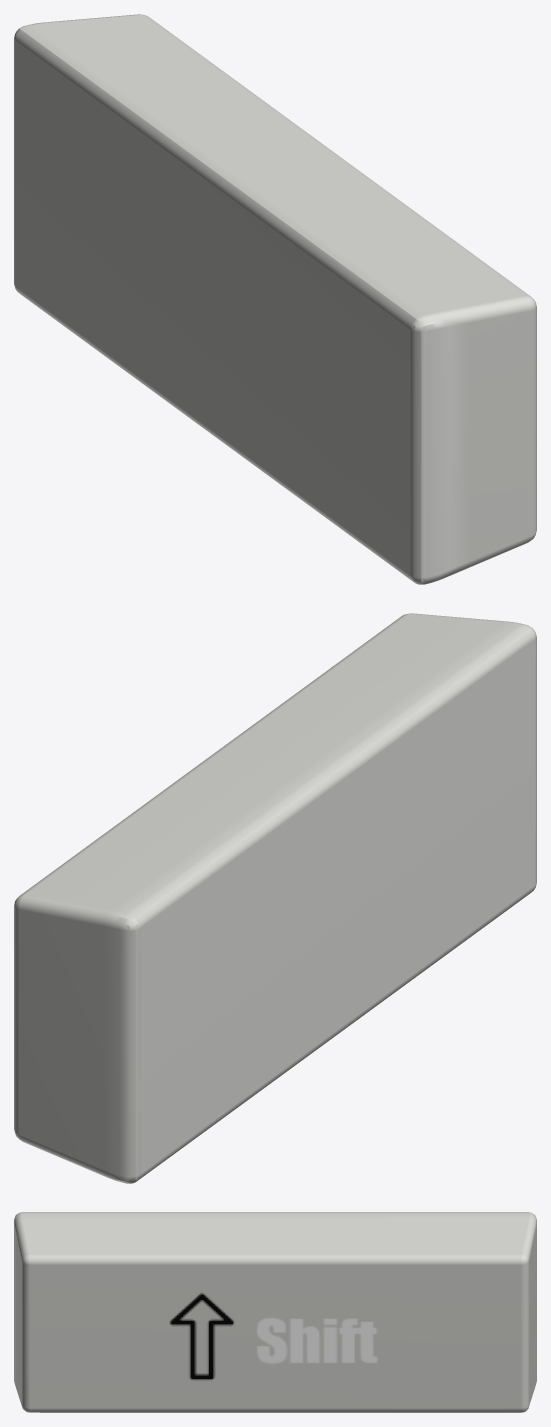
Rendered from HSBC Entorno_10_CAPAS_Tecla Shift.fbx.
3 views of the same model, one above another, from view 1: azimuth 30°, elevation 25°; view 2: azimuth 150°, elevation 25°; view 3: azimuth 270°, elevation 25° (orthographic). The views are drawn at different scales.
Visible parts, largest first — view 1: shift; view 2: shift; view 3: shift.
Boxes of the visible parts, <box> form: shift: <box>14,14,536,584</box>; shift: <box>14,613,536,1183</box>; shift: <box>14,1212,536,1412</box>.
Bounding box in the file's own units: 76.45 × 149 × 411.
